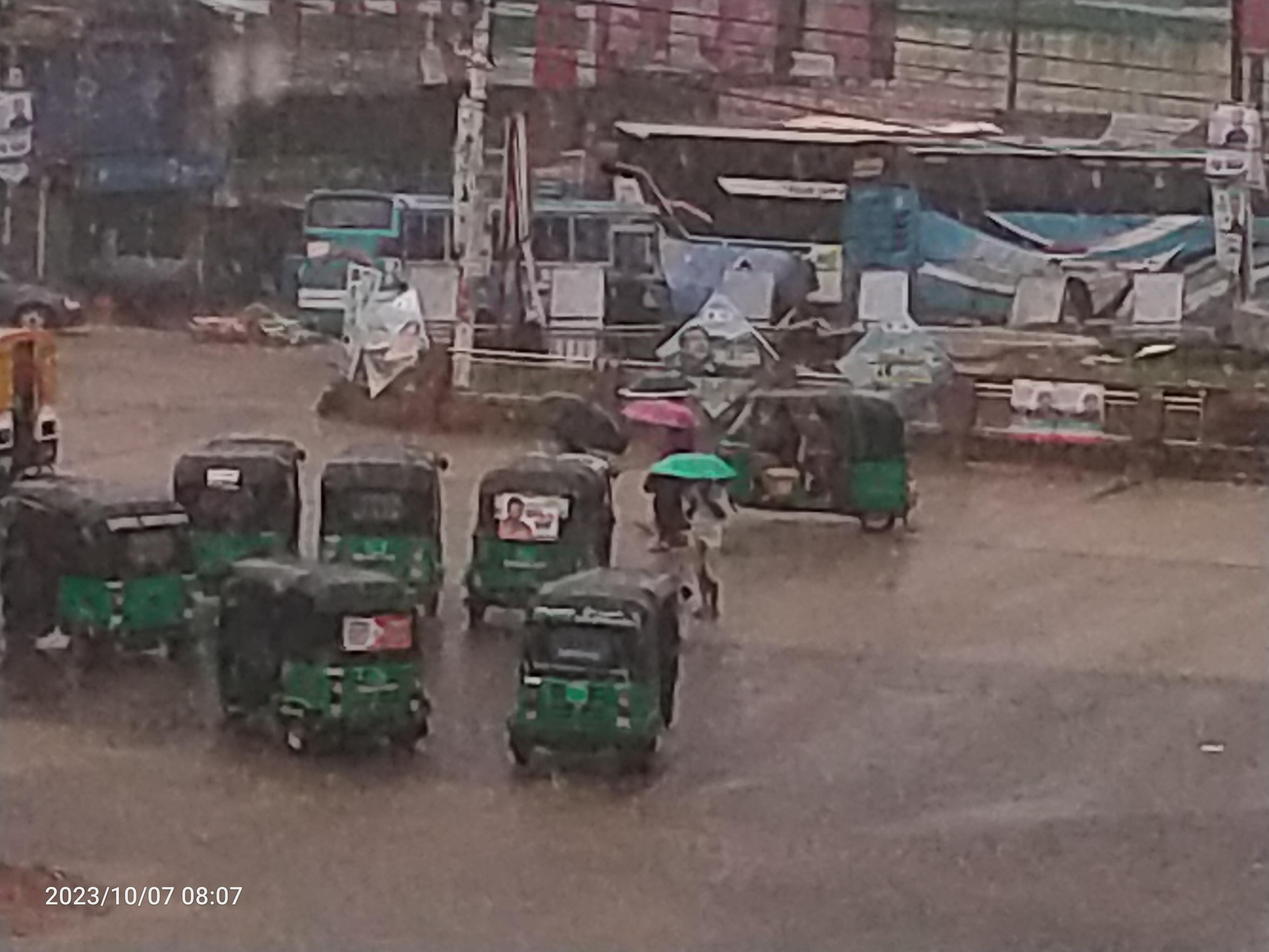Bus: (592, 81, 1029, 368), (838, 110, 1269, 364), (267, 164, 698, 356)
